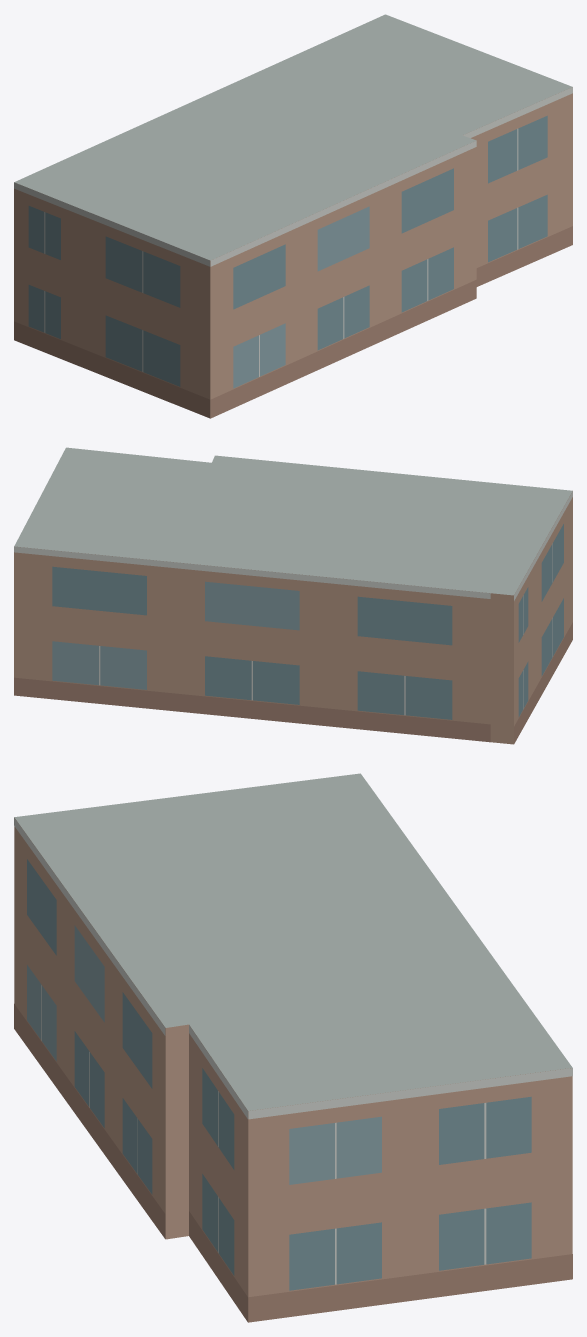
Rendered from survey-upis-32617996.glb.
The picture shows the model from 3 angles, top to bottom: view 1: azimuth 30°, elevation 25°; view 2: azimuth 150°, elevation 25°; view 3: azimuth 270°, elevation 25°; orthographic projection. The views are drawn at different scales.
Visible parts, largest first — view 1: survey-upis-32617996.tmp; view 2: survey-upis-32617996.tmp; view 3: survey-upis-32617996.tmp.
Part boxes in pixels (box(x1,y1,x2,y2)): survey-upis-32617996.tmp: box(14, 14, 572, 418); survey-upis-32617996.tmp: box(14, 447, 572, 744); survey-upis-32617996.tmp: box(14, 773, 572, 1322).
Bounding box in the file's own units: 20.89 × 6.1 × 14.61.
